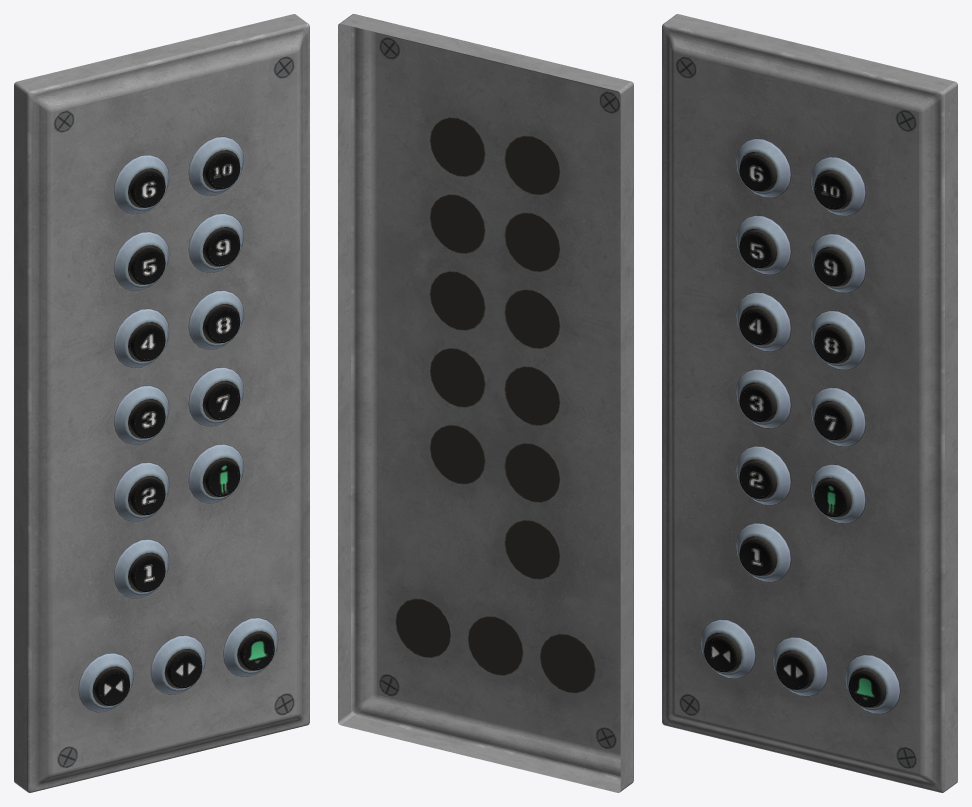
The model's file is elevator___elevator_key_7_mb.glb.
3 views of the same model, side by side, from view 1: azimuth 30°, elevation 25°; view 2: azimuth 150°, elevation 25°; view 3: azimuth 330°, elevation 25° (orthographic).
Visible parts, largest first — view 1: 01_01_0; view 2: 01_01_0; view 3: 01_01_0.
Part boxes in pixels (x1,y1,x2,y2): 01_01_0: (14,14,309,792); 01_01_0: (338,14,633,792); 01_01_0: (662,14,957,792).
Size of the model in its own units: 0.2161 by 0.5129 by 0.037.
Materials: 1 (1 with a texture image).
